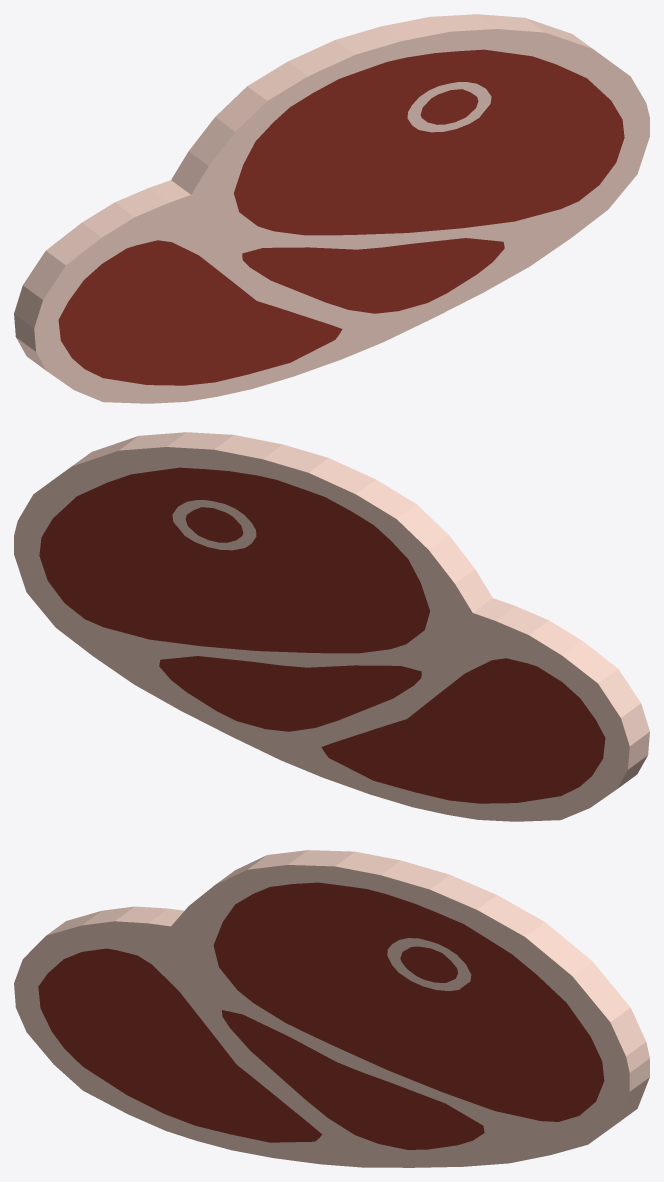
File: beef.fbx
3 views of the same model, one above another, from view 1: azimuth 30°, elevation 25°; view 2: azimuth 150°, elevation 25°; view 3: azimuth 330°, elevation 25° (orthographic).
Parts seen in each view (by area): view 1: Plane.001; view 2: Plane.001; view 3: Plane.001.
Part boxes in pixels (x1=…): Plane.001: x1=14, y1=14, x2=649, y2=403; Plane.001: x1=14, y1=432, x2=649, y2=821; Plane.001: x1=14, y1=850, x2=649, y2=1167.
Size of the model in its own units: 415 by 200 by 23.61.
